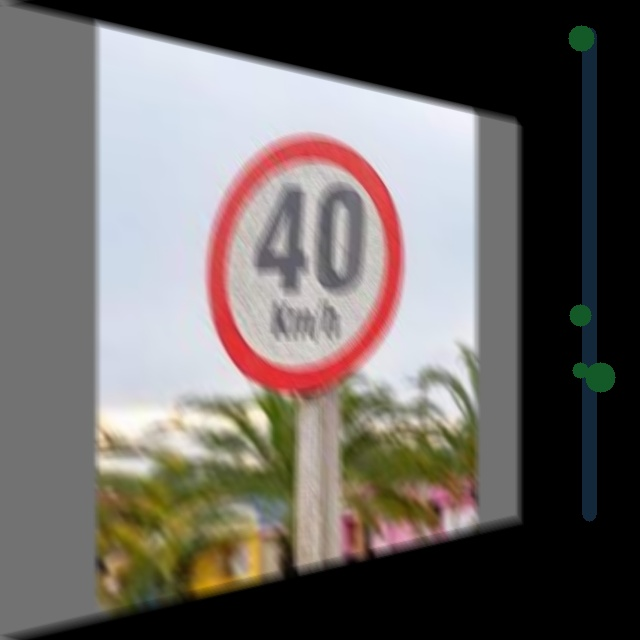Speed_Limit_40: (212, 117, 402, 386)
